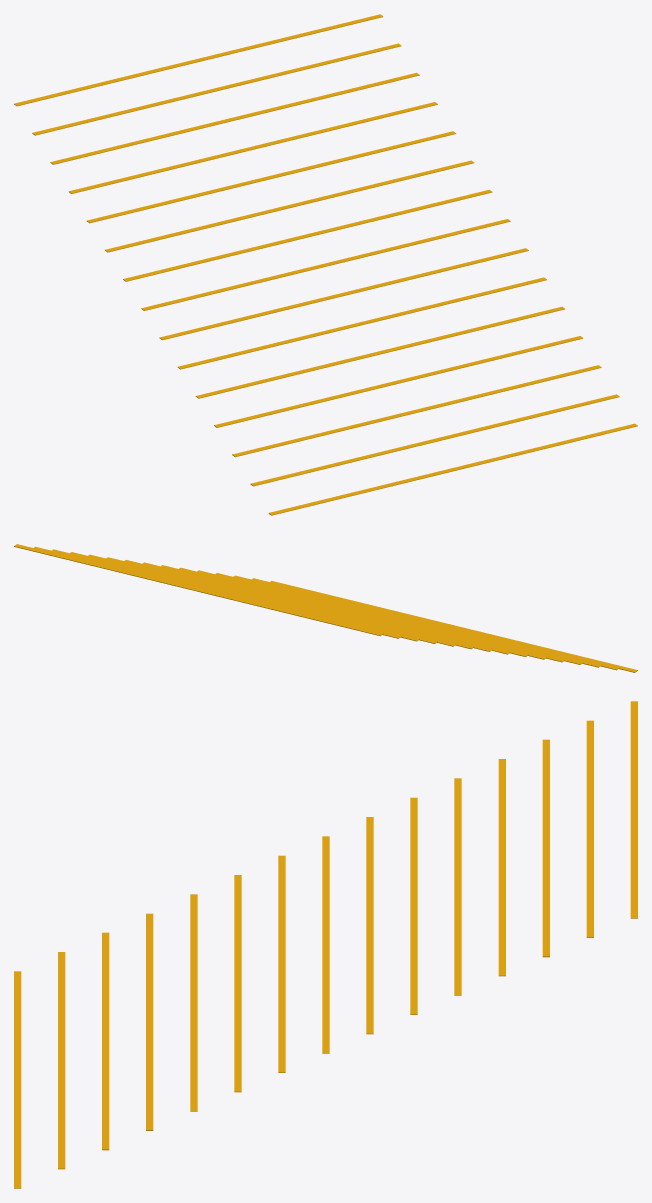
The model's file is gteki_ik_stair_n15_r160_t331_w3868_nosing.glb.
The picture shows the model from 3 angles, top to bottom: view 1: azimuth 30°, elevation 25°; view 2: azimuth 150°, elevation 25°; view 3: azimuth 270°, elevation 25°; orthographic projection. The views are drawn at different scales.
Parts seen in each view (by area): view 1: VIS_body; view 2: VIS_body; view 3: VIS_body.
Boxes of the visible parts, left/top/right/bottom form: VIS_body: left=14, top=14, right=637, bottom=515; VIS_body: left=14, top=544, right=637, bottom=672; VIS_body: left=14, top=701, right=637, bottom=1188.
Bounding box in the file's own units: 3.85 × 2.25 × 4.69.
Materials: 1 (1 with a texture image).
